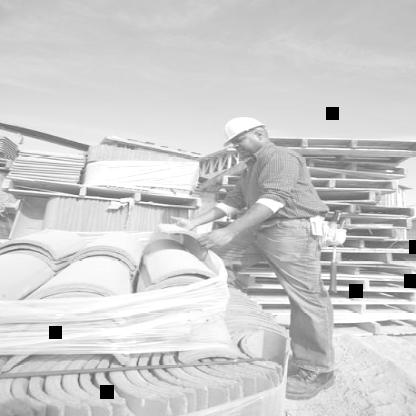helmet: (219, 110, 269, 159)
